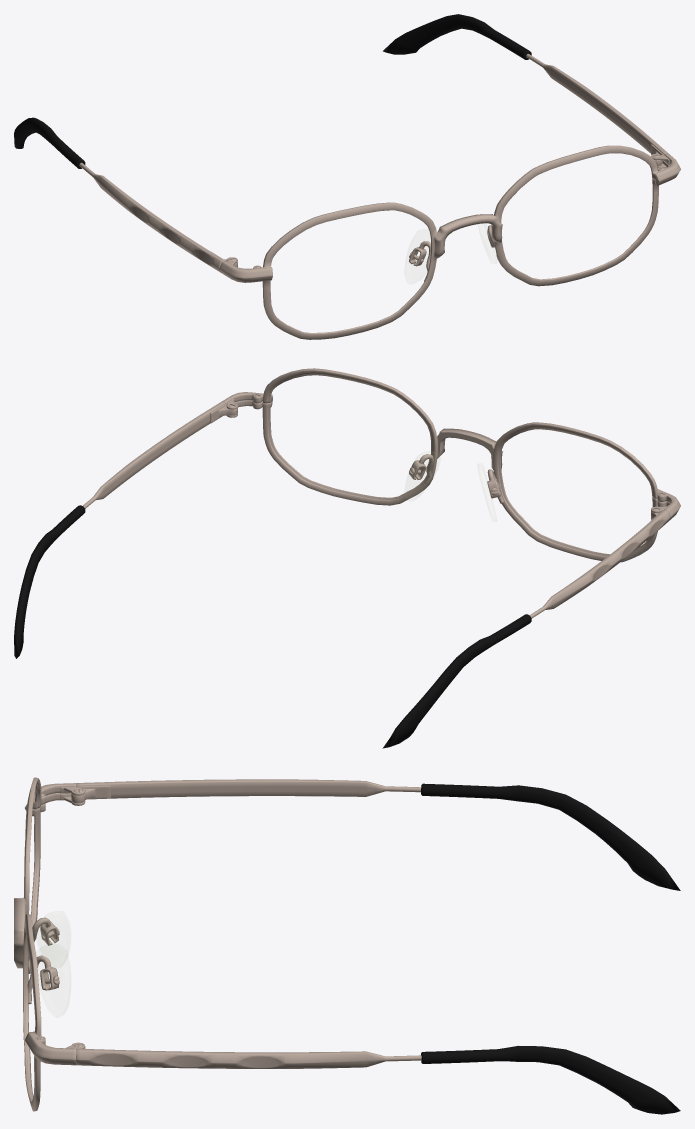
The model's file is sunglass6.glb.
3 views of the same model, one above another, from view 1: azimuth 30°, elevation 25°; view 2: azimuth 150°, elevation 25°; view 3: azimuth 270°, elevation 25° (orthographic). The views are drawn at different scales.
Visible parts, largest first — view 1: glasses_v3_05; view 2: glasses_v3_05; view 3: glasses_v3_05.
Part boxes in pixels (bbox=[...]): glasses_v3_05: bbox=[14, 14, 680, 339]; glasses_v3_05: bbox=[14, 368, 680, 748]; glasses_v3_05: bbox=[14, 777, 680, 1114].
Bounding box in the file's own units: 0.1634 × 0.0423 × 0.1653.
